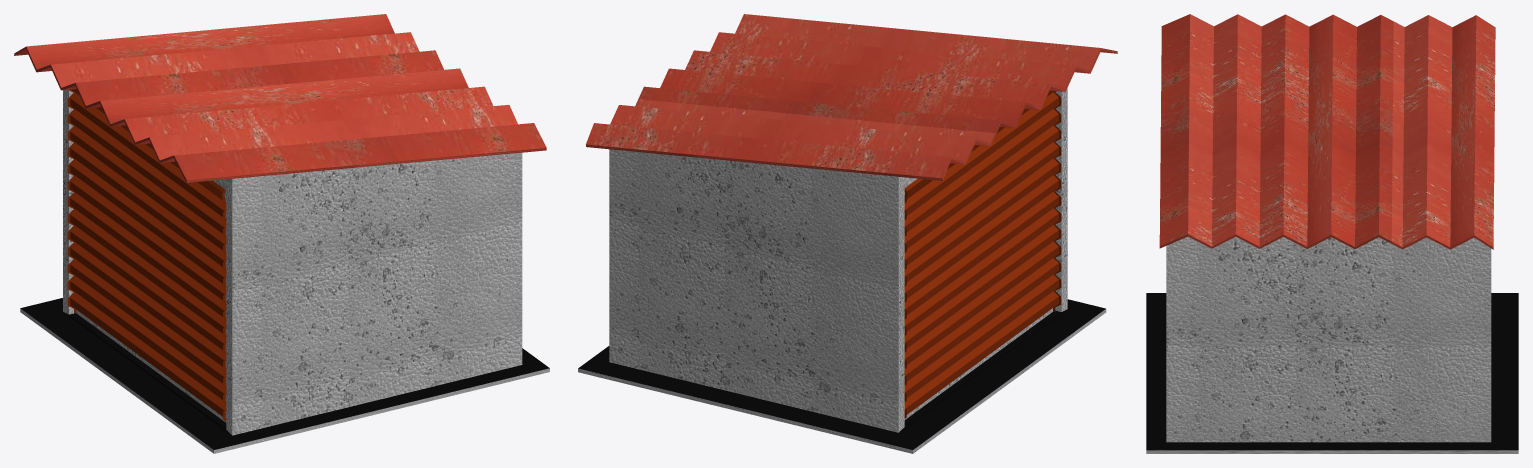
The model's file is rustyshop.fbx.
The picture shows the model from 3 angles, left to right: view 1: azimuth 30°, elevation 25°; view 2: azimuth 150°, elevation 25°; view 3: azimuth 270°, elevation 25°; orthographic projection. The views are drawn at different scales.
Parts seen in each view (by area): view 1: Cube, roof, Plane; view 2: Cube, roof, Plane; view 3: Cube, roof.
Part boxes in pixels (x1=…): Cube: x1=20, y1=90, x2=549, y2=453; roof: x1=14, y1=14, x2=546, y2=182; Plane: x1=67, y1=89, x2=226, y2=420; Cube: x1=578, y1=88, x2=1106, y2=453; roof: x1=586, y1=14, x2=1117, y2=180; Plane: x1=904, y1=90, x2=1061, y2=418; Cube: x1=1146, y1=236, x2=1518, y2=453; roof: x1=1159, y1=14, x2=1495, y2=249.
Bounding box in the file's own units: 2209 × 1666 × 2046.
